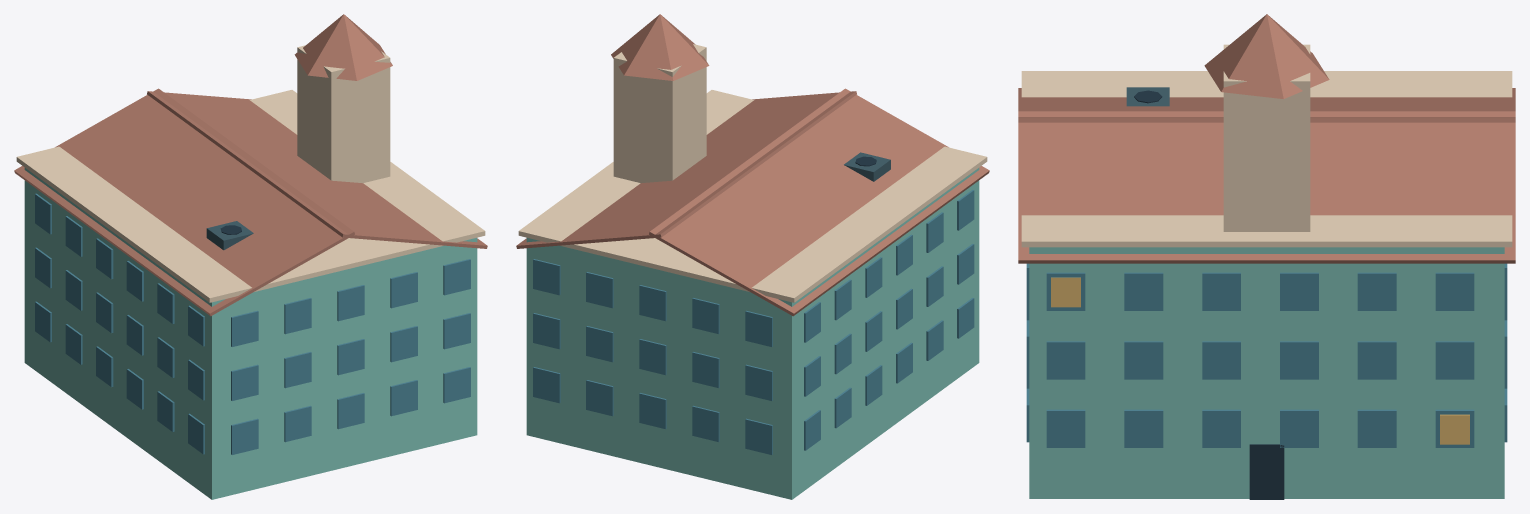
Rendered from building-church.obj.
3 views of the same model, side by side, from view 1: azimuth 30°, elevation 25°; view 2: azimuth 150°, elevation 25°; view 3: azimuth 270°, elevation 25° (orthographic). The views are drawn at different scales.
Parts seen in each view (by area): view 1: building-church; view 2: building-church; view 3: building-church.
Boxes of the visible parts, <box> form: building-church: <box>14,14,487,499</box>; building-church: <box>516,14,989,499</box>; building-church: <box>1018,14,1515,499</box>.
Size of the model in its own units: 18.86 by 23.5 by 23.
